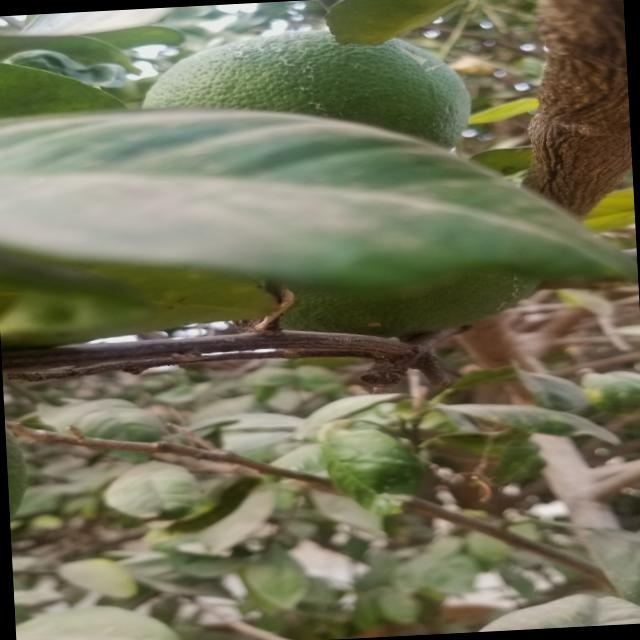agrume: (149, 31, 478, 167)
